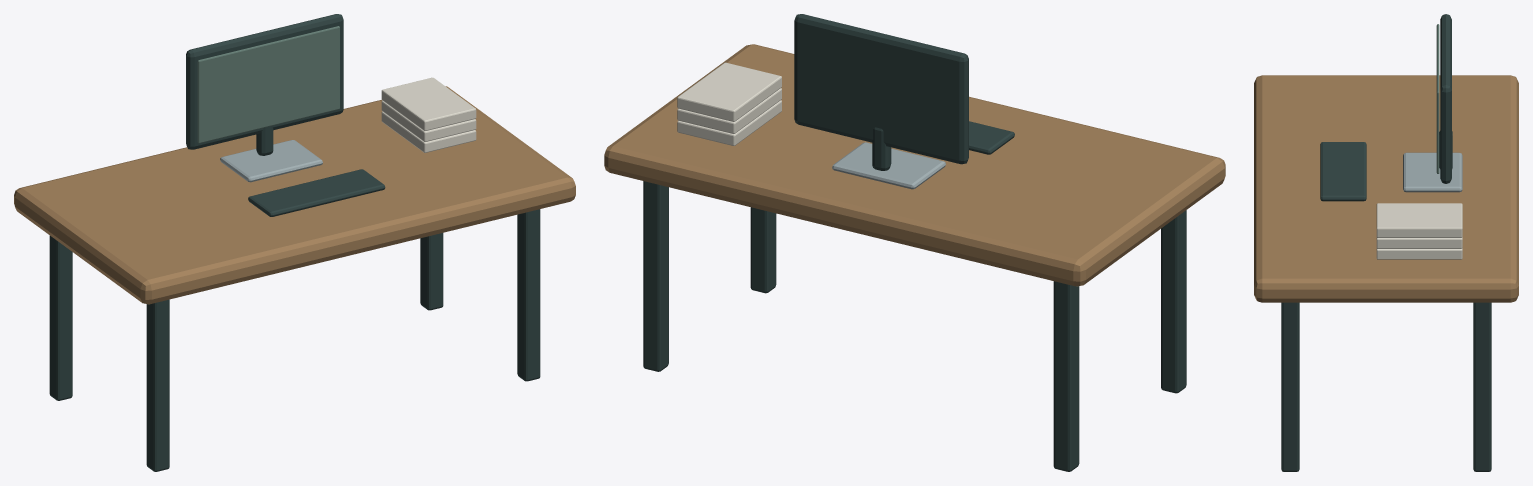
The model's file is workspace.glb.
3 renders of one model, left to right at view 1: azimuth 30°, elevation 25°; view 2: azimuth 150°, elevation 25°; view 3: azimuth 270°, elevation 25°, orthographic. The views are drawn at different scales.
Visible parts, largest first — view 1: workspace_Oiled_ash, workspace_Graphite_epoxy_steel, workspace_Moss_upholstery, workspace_Mineral_plaster, workspace_Satin_stainless_steel; view 2: workspace_Oiled_ash, workspace_Graphite_epoxy_steel, workspace_Mineral_plaster, workspace_Satin_stainless_steel; view 3: workspace_Oiled_ash, workspace_Graphite_epoxy_steel, workspace_Mineral_plaster, workspace_Satin_stainless_steel, workspace_Moss_upholstery.
Part boxes in pixels (x1,y1,x2,y2): workspace_Oiled_ash: [14, 86, 575, 304]; workspace_Graphite_epoxy_steel: [49, 14, 540, 471]; workspace_Moss_upholstery: [197, 26, 339, 143]; workspace_Mineral_plaster: [381, 77, 476, 152]; workspace_Satin_stainless_steel: [220, 140, 322, 182]; workspace_Oiled_ash: [604, 44, 1225, 286]; workspace_Graphite_epoxy_steel: [643, 14, 1186, 471]; workspace_Mineral_plaster: [677, 62, 781, 145]; workspace_Satin_stainless_steel: [832, 142, 945, 189]; workspace_Oiled_ash: [1254, 75, 1518, 302]; workspace_Graphite_epoxy_steel: [1281, 14, 1491, 471]; workspace_Mineral_plaster: [1376, 203, 1462, 259]; workspace_Satin_stainless_steel: [1403, 152, 1462, 192]; workspace_Moss_upholstery: [1436, 24, 1439, 173].
Bounding box in the file's own units: 1.5 × 1.1 × 0.8.
